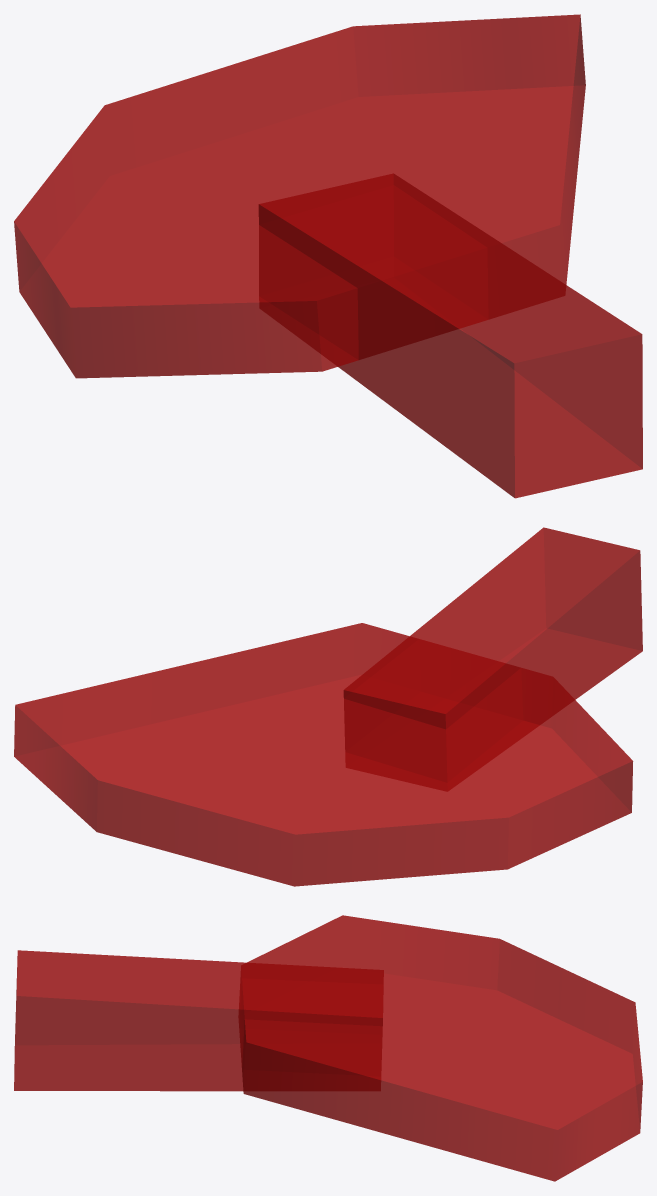
Rendered from SM_Prop_Whale_Skeleton_Shoulder_01_Collision.fbx.
3 renders of one model, top to bottom at view 1: azimuth 30°, elevation 25°; view 2: azimuth 150°, elevation 25°; view 3: azimuth 270°, elevation 25°, orthographic. The views are drawn at different scales.
Parts seen in each view (by area): view 1: SM_Prop_Whale_Skeleton_Shoulder_01_Collision; view 2: SM_Prop_Whale_Skeleton_Shoulder_01_Collision; view 3: SM_Prop_Whale_Skeleton_Shoulder_01_Collision.
Boxes of the visible parts, x1,y1,x2,y2 form: SM_Prop_Whale_Skeleton_Shoulder_01_Collision: (14,14,642,498); SM_Prop_Whale_Skeleton_Shoulder_01_Collision: (14,527,642,886); SM_Prop_Whale_Skeleton_Shoulder_01_Collision: (14,915,642,1181).
Bounding box in the file's own units: 274 × 53.27 × 314.
